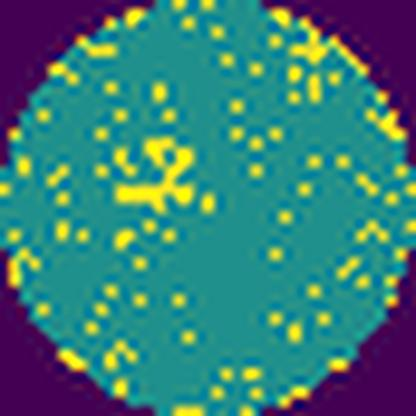Loc: (116, 135, 197, 212)
